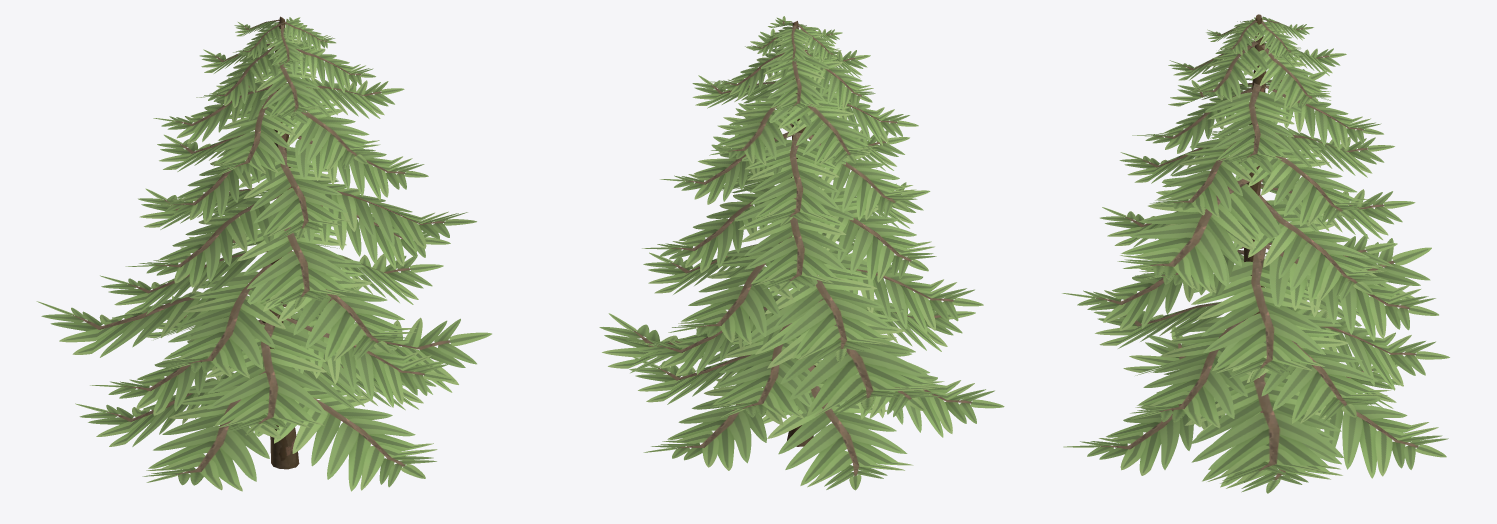
Rendered from tree.obj.
3 views of the same model, side by side, from view 1: azimuth 30°, elevation 25°; view 2: azimuth 150°, elevation 25°; view 3: azimuth 270°, elevation 25° (orthographic). The views are drawn at different scales.
Parts seen in each view (by area): view 1: Pine_1_Cylinder.025; view 2: Pine_1_Cylinder.025; view 3: Pine_1_Cylinder.025.
Boxes of the visible parts, x1,y1,x2,y2 form: Pine_1_Cylinder.025: (36,16,491,491); Pine_1_Cylinder.025: (599,16,1004,490); Pine_1_Cylinder.025: (1062,14,1449,493).
Size of the model in its own units: 7.73 by 7.58 by 6.76.
Materials: 2 (2 with a texture image).
